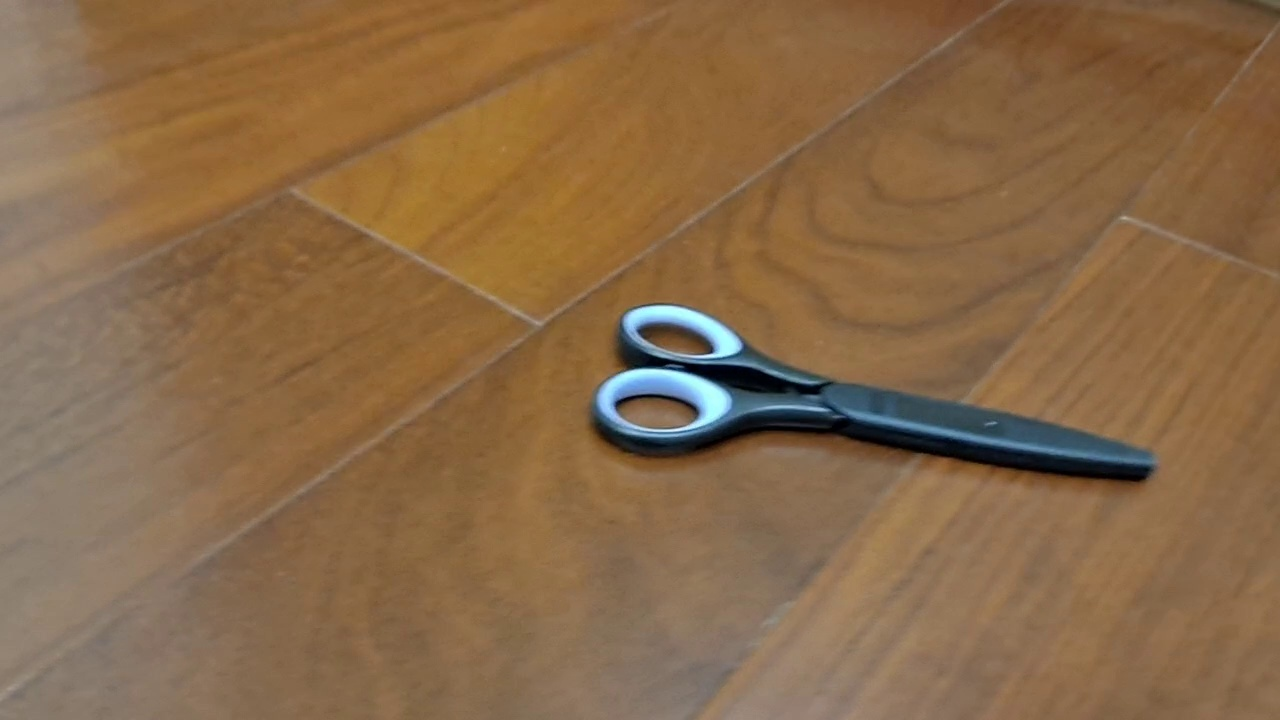scissors: (589, 300, 1159, 483)
